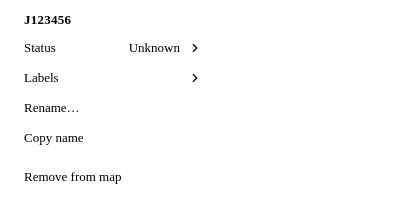
ContextMenu › opens a submenu at once on click (and tap)
Click the menu item "Status Unknown".
click(112, 48)  # box [16,33,208,63]
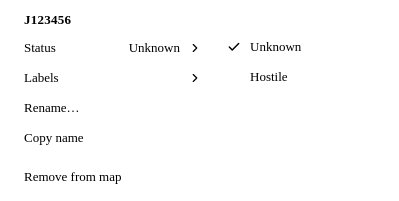
Expected: the menu named "Status" is shown, [214,28,382,96]
